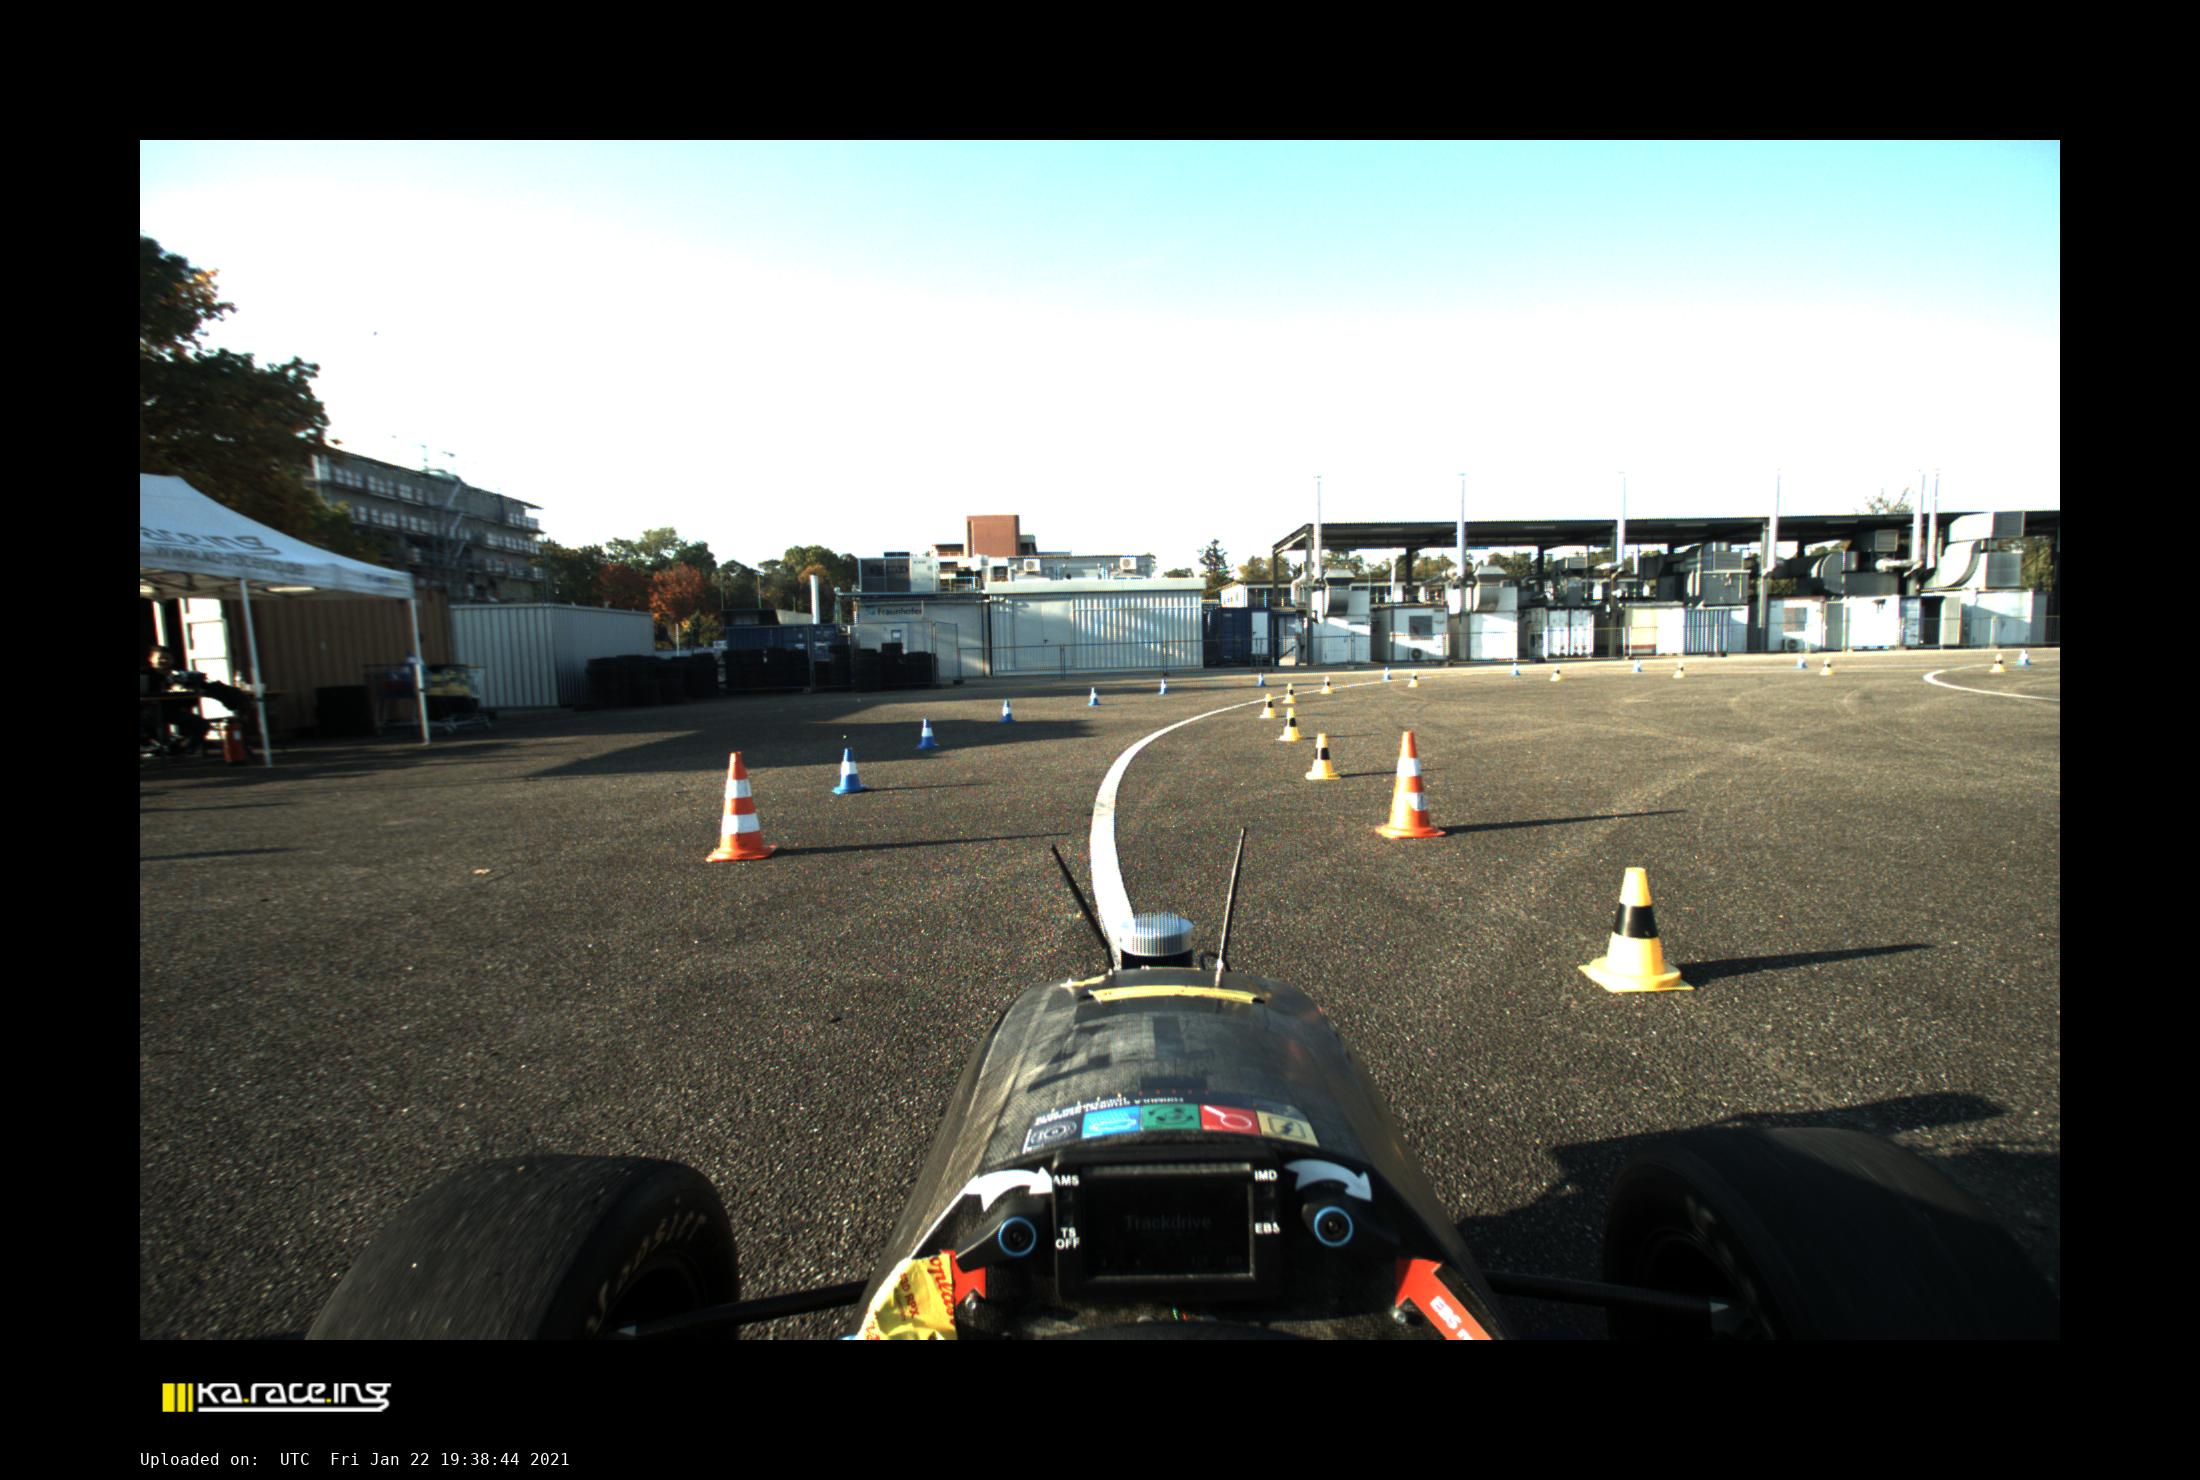blue_cone: (832, 748, 865, 795), (917, 719, 940, 748), (998, 699, 1017, 722), (1087, 687, 1102, 705), (2017, 647, 2032, 666), (1794, 652, 1807, 669), (1255, 672, 1267, 687), (1158, 679, 1169, 694), (1630, 659, 1642, 672), (1382, 666, 1392, 681), (1510, 662, 1520, 676)
large_orange_cone: (705, 752, 778, 861), (1374, 732, 1445, 839)
yellow_cone: (1581, 867, 1695, 991), (1305, 733, 1341, 780), (1277, 709, 1302, 742), (1259, 694, 1277, 719), (1990, 652, 2007, 672), (1282, 682, 1297, 704), (1818, 656, 1833, 676), (1320, 676, 1335, 694), (1673, 661, 1686, 679), (1407, 671, 1420, 687), (1549, 664, 1562, 681)
